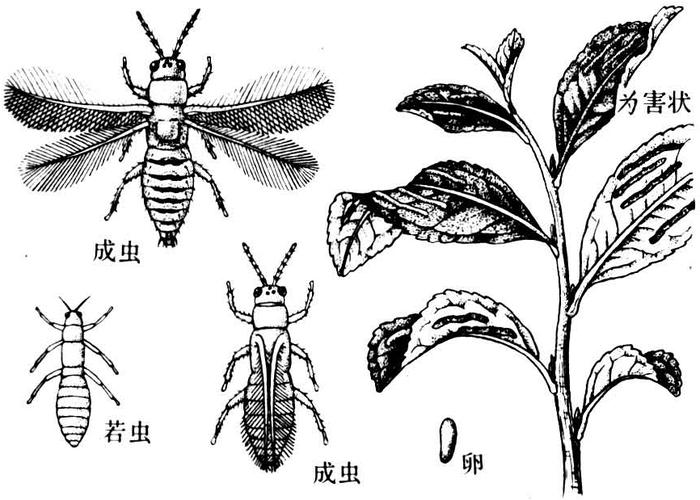Thripidae: (3, 10, 335, 250)
